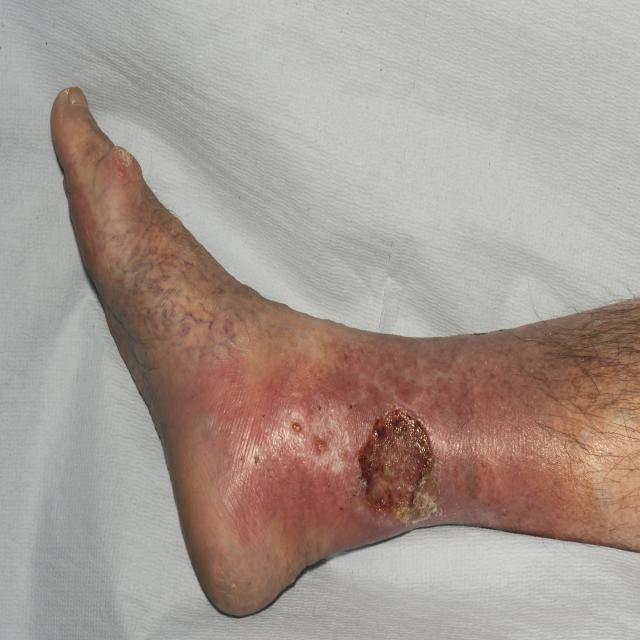wound: (356, 406, 436, 523)
